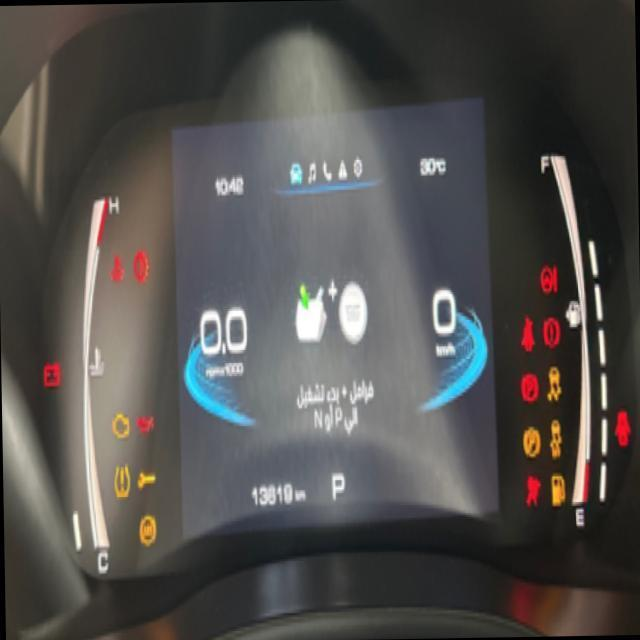Doors: (612, 404, 634, 454)
Engine cooling system: (107, 249, 126, 286)
Low fuel level: (549, 472, 568, 510)
